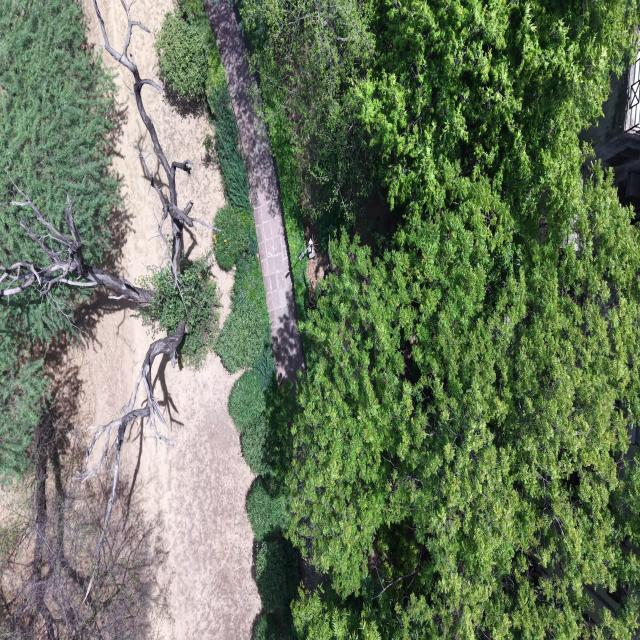DRY_AREA: (122, 354, 260, 639), (205, 0, 304, 381)
VEGETATION_TREE: (158, 0, 639, 639), (241, 0, 639, 639), (0, 0, 215, 639), (0, 2, 215, 637), (80, 0, 216, 598), (0, 2, 177, 363), (205, 43, 298, 639), (208, 65, 297, 638), (158, 0, 269, 372), (0, 414, 165, 639), (239, 0, 378, 256), (0, 0, 119, 264), (241, 0, 377, 220), (156, 0, 252, 215), (207, 54, 270, 372), (229, 345, 289, 522), (214, 205, 270, 372), (139, 255, 219, 368), (269, 118, 308, 317), (206, 50, 252, 216), (0, 337, 47, 482), (216, 248, 270, 372), (155, 8, 211, 99), (294, 589, 383, 639), (229, 370, 269, 474), (256, 540, 297, 612), (247, 478, 288, 540), (214, 205, 249, 270), (253, 613, 282, 639), (203, 134, 215, 166)
